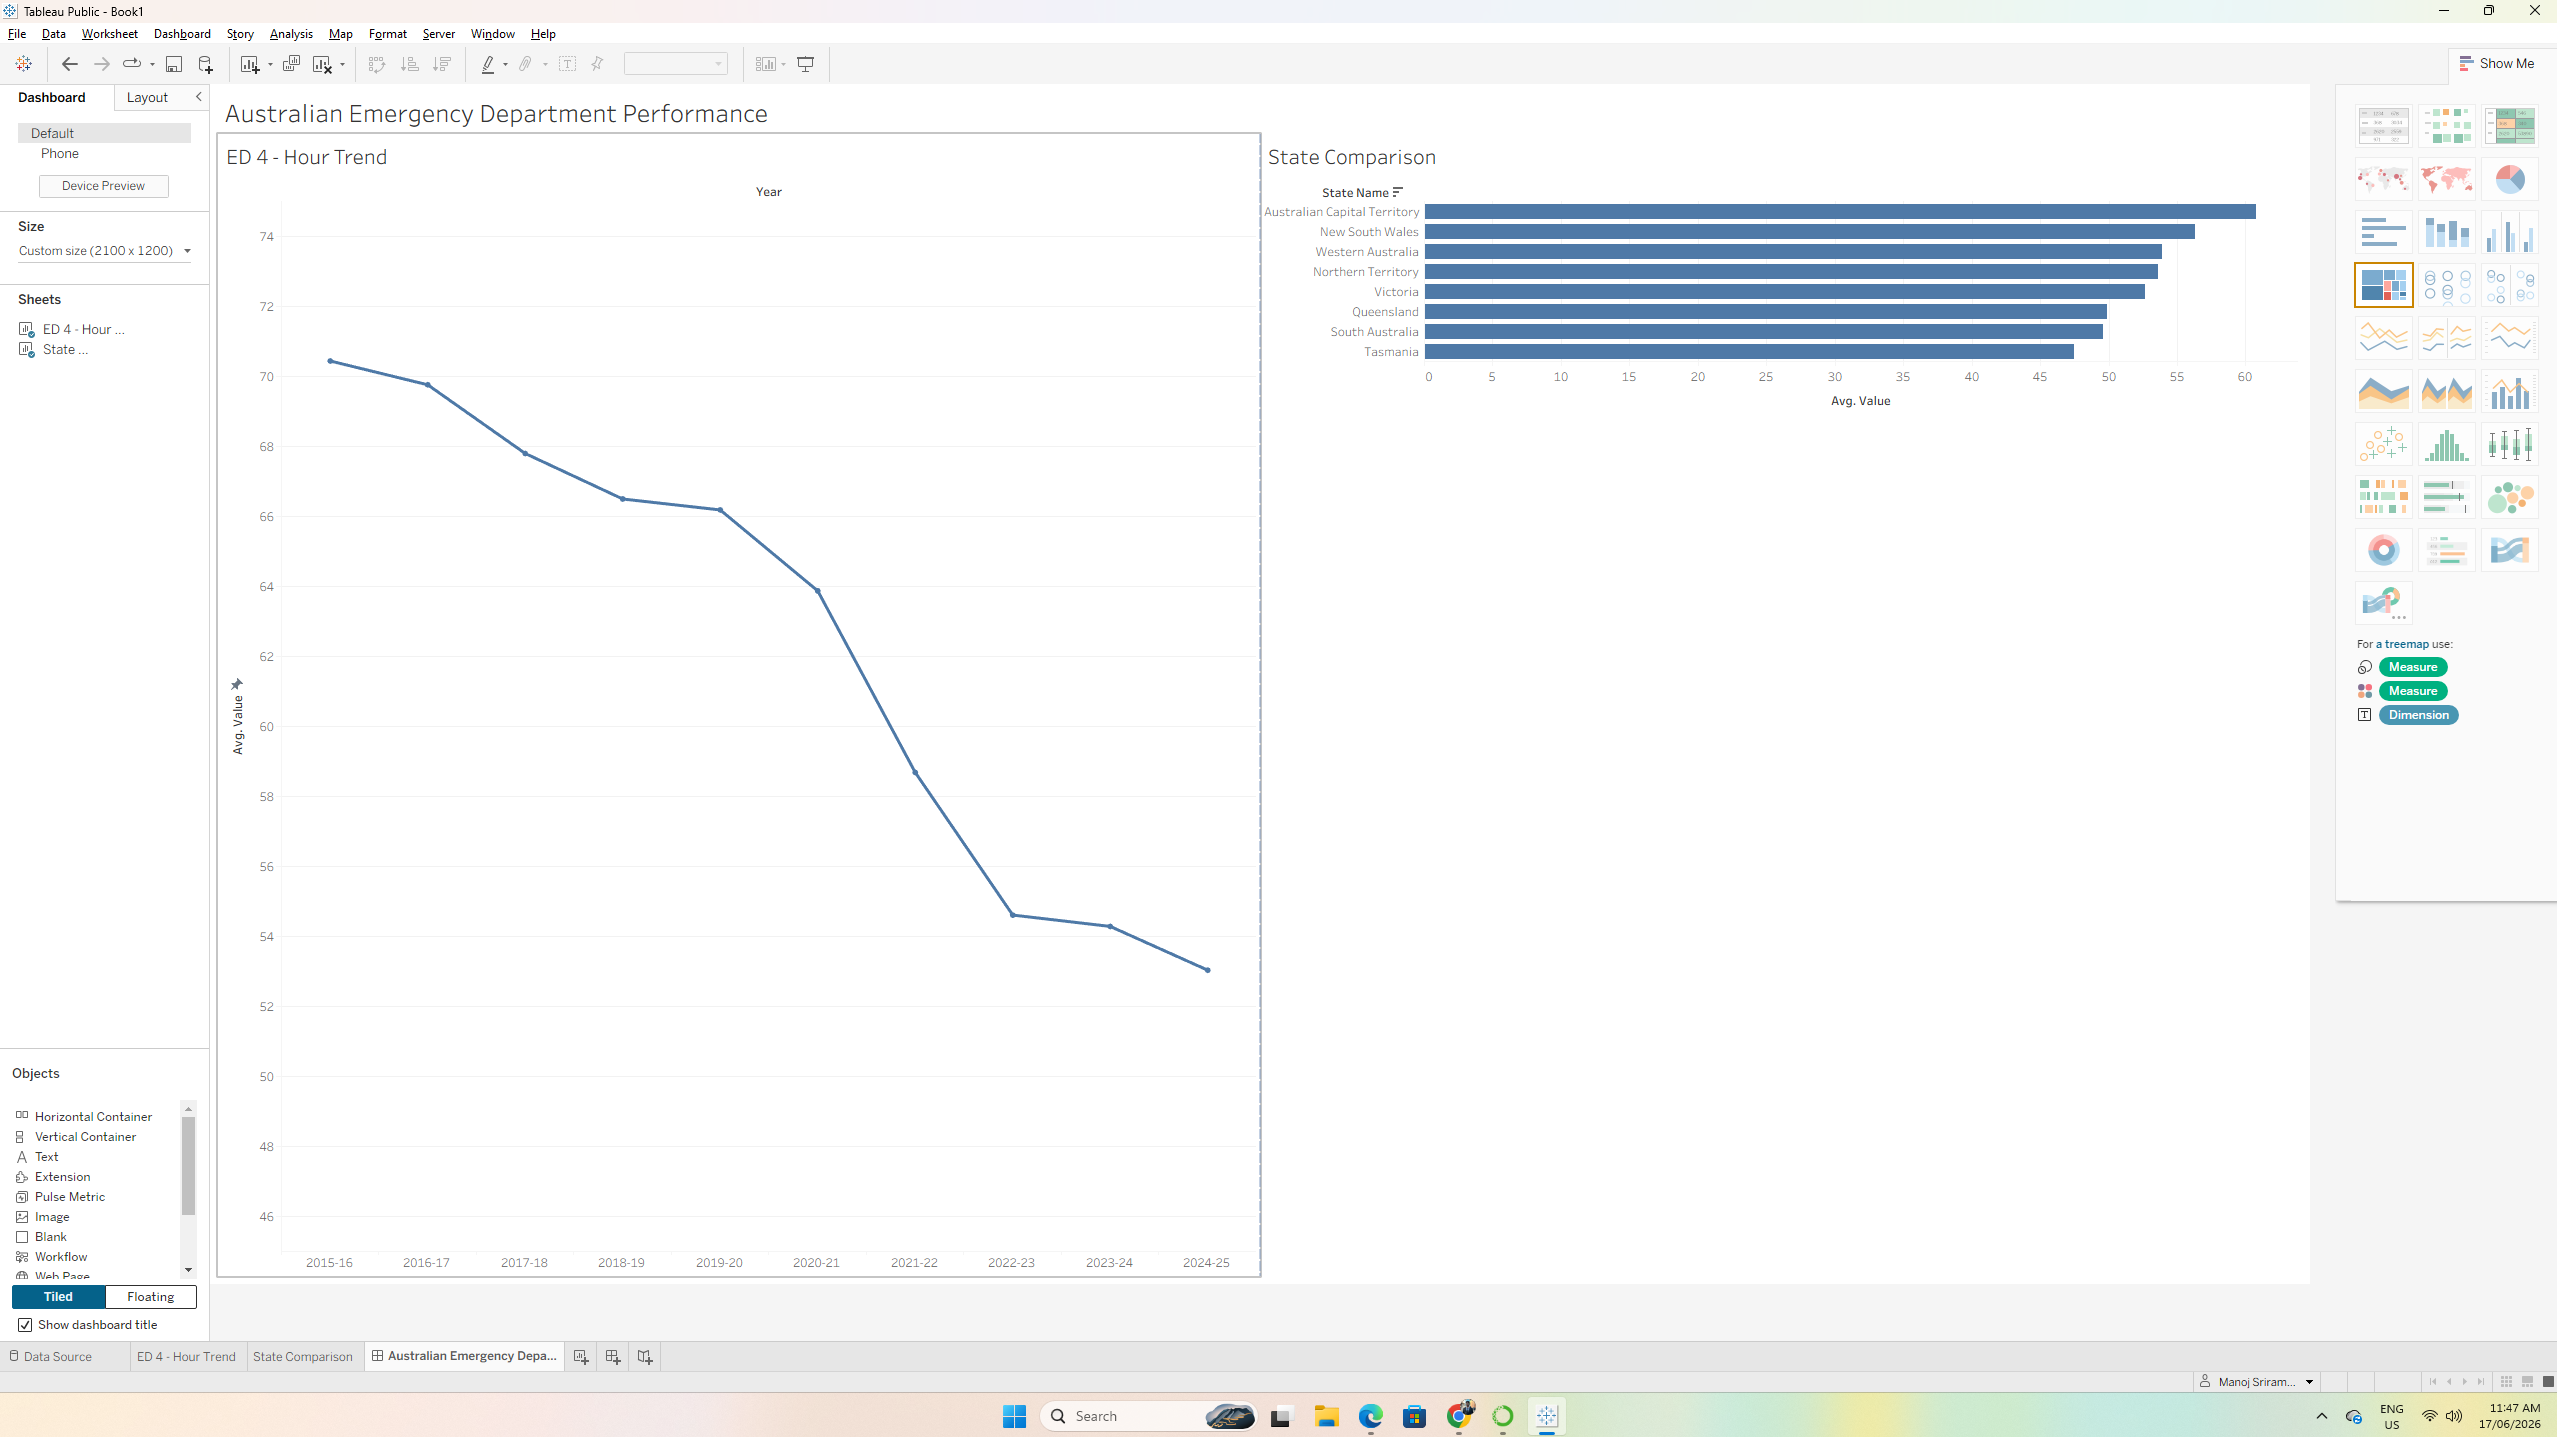

The dashboard page shown, as its layout file describes it:
{"tool":"tableau","page":{"name":"Australian Emergency Department Performance","canvas":[2100,1200],"ordinal":0},"visuals":[{"type":"title","box":[8,8,2084,42]},{"type":"worksheet","title":"ED 4 - Hour Trend","mark":"Line","rows":["Value"],"cols":["Year"],"box":[8,50,1042,1142]},{"type":"worksheet","title":"State Comparison","mark":"Automatic","rows":["StateName"],"cols":["Value"],"box":[1050,50,1042,1142]}]}

Visuals, with their boxes on the page's 2100x1200 design canvas (x1, y1, x2, y2). These are canvas units, not pixel positions in the 2557x1437 screenshot, which may show the page scaled, cropped or inside an application window:
title: box=[8, 8, 2092, 50]
"ED 4 - Hour Trend" worksheet (Line marks): box=[8, 50, 1050, 1192]
"State Comparison" worksheet: box=[1050, 50, 2092, 1192]
